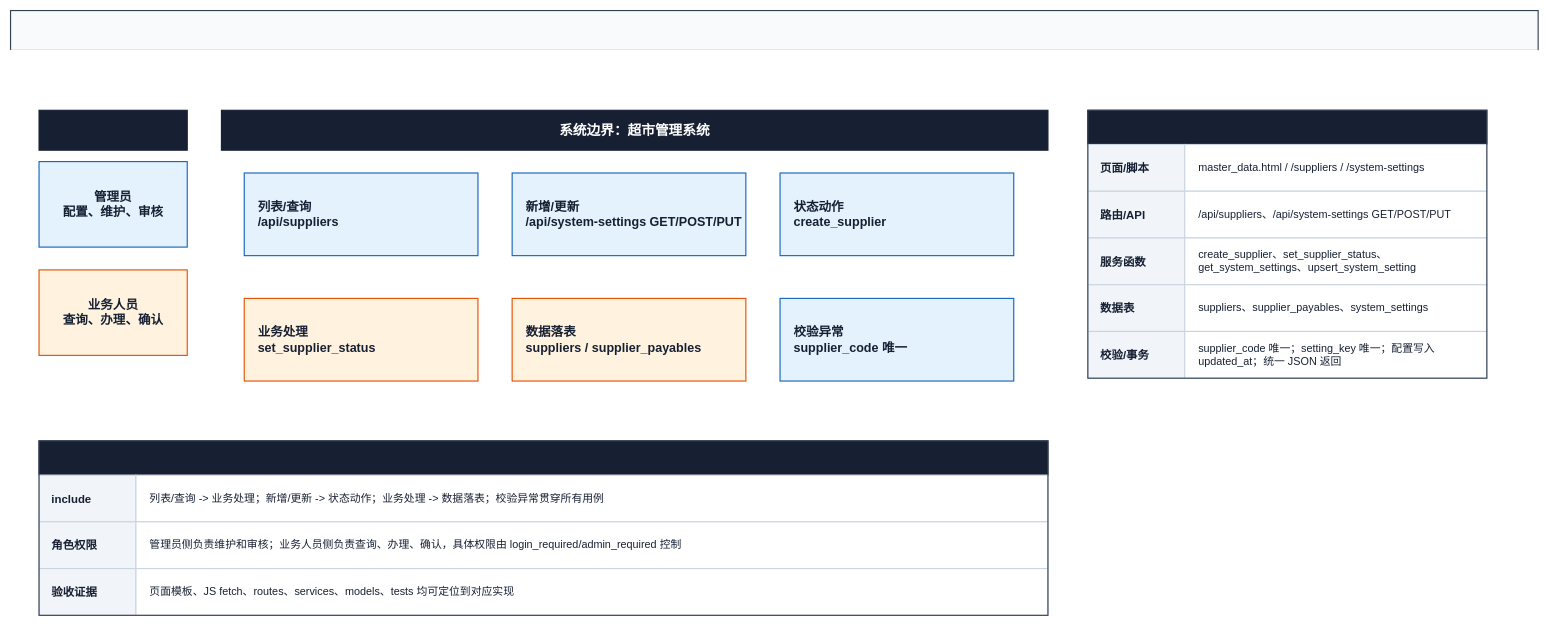
Some shapes in this 1548 by 625 pixel diagram are drawn without their labels. Here are the shapes that lost their labels. From the top down, the centre of each, then its label:
the point at 774,30: 供应商系统管理用例图
the point at 774,62: 模块级用例矩阵｜角色｜用例｜实现入口｜校验点
the point at 113,129: 角色
the point at 1287,127: 实现明细
the point at 543,457: 用例依赖
